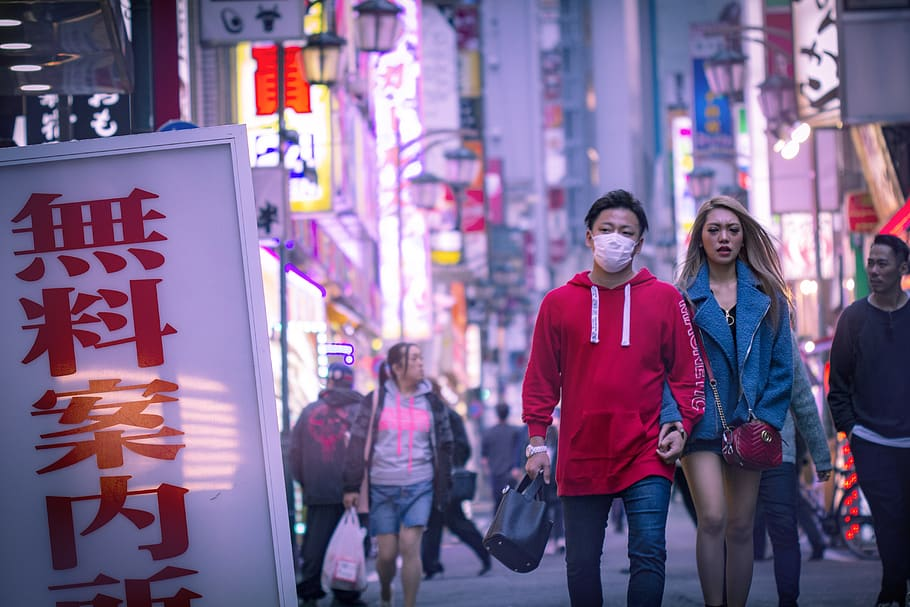person: (486, 179, 714, 606), (666, 192, 804, 607), (825, 225, 910, 607), (347, 340, 454, 607), (285, 360, 384, 586)
